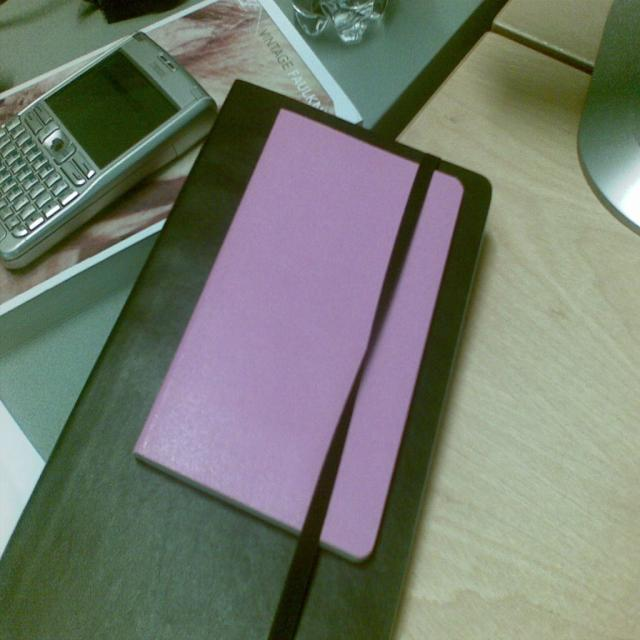Mobile-phone: (0, 26, 204, 250)
